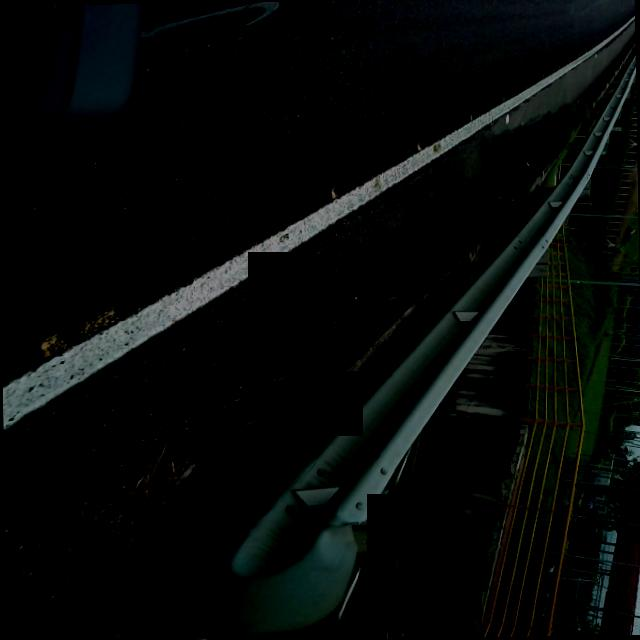DITCH: (0, 0, 640, 640), (0, 51, 569, 640)
